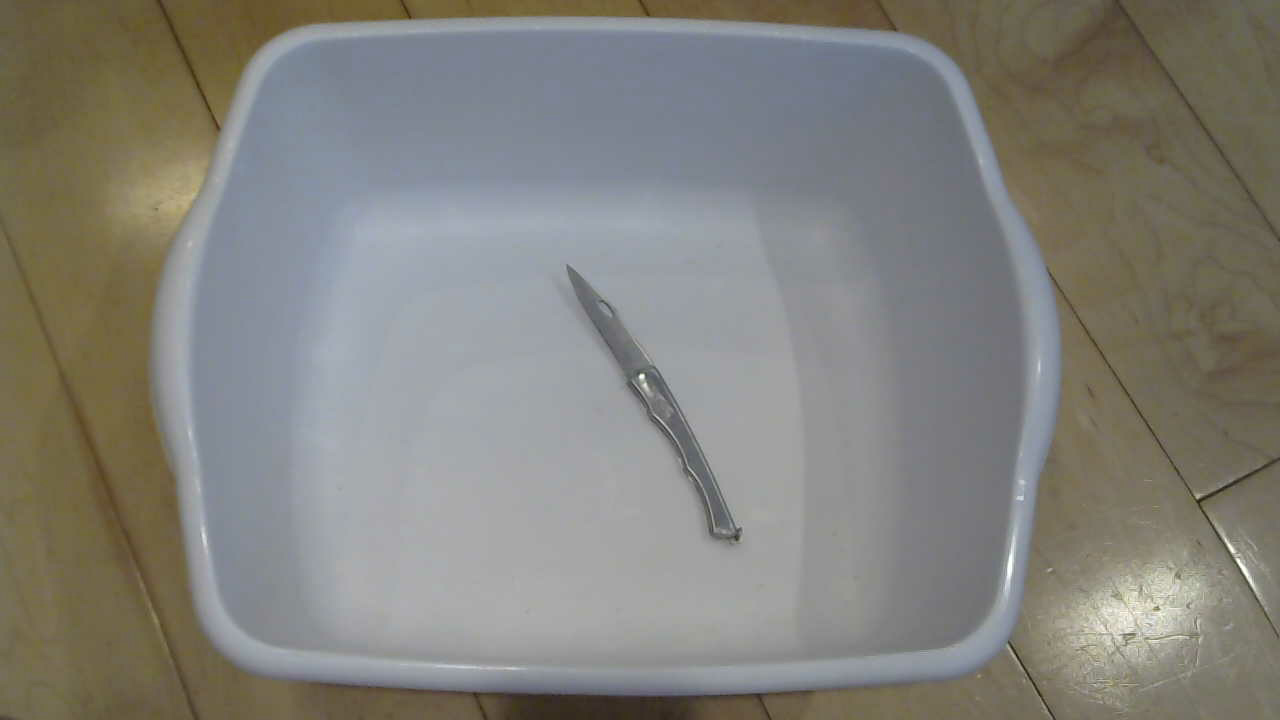knife: (522, 278, 757, 545)
